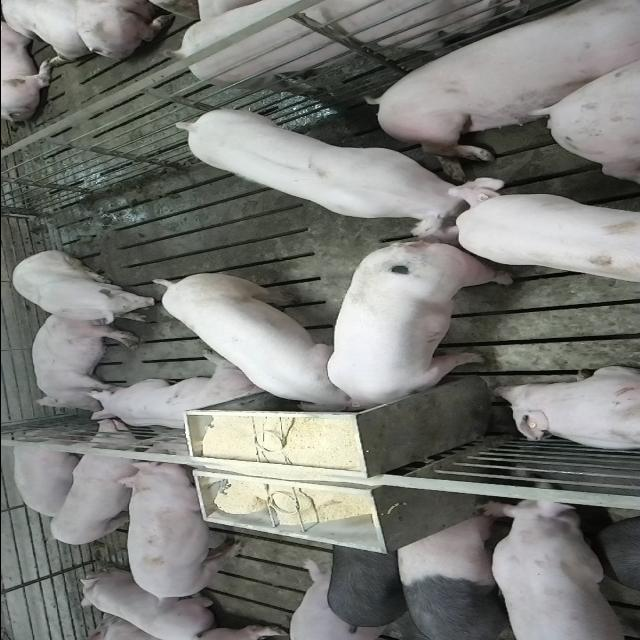Feeding: (326, 246, 514, 420), (143, 268, 354, 410)
Lateral_lying: (365, 4, 640, 162), (30, 310, 140, 412)
Sitting: (8, 251, 158, 327)
Standing: (165, 104, 500, 237), (171, 0, 591, 100), (481, 497, 640, 638), (455, 182, 640, 288), (121, 460, 248, 604), (393, 513, 519, 638), (324, 534, 410, 634)
Sternal_lying: (86, 357, 266, 432), (490, 365, 640, 454), (74, 572, 220, 638)
